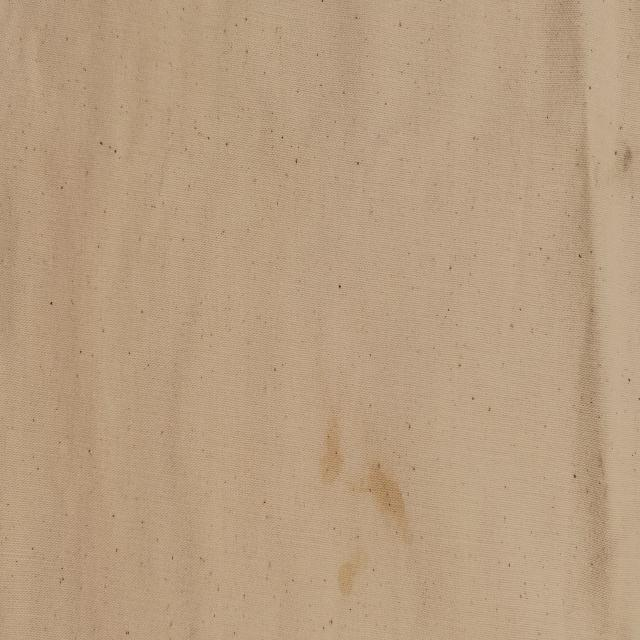taaaches: (362, 439, 410, 534), (310, 415, 346, 501), (328, 547, 366, 602), (610, 130, 636, 190)
